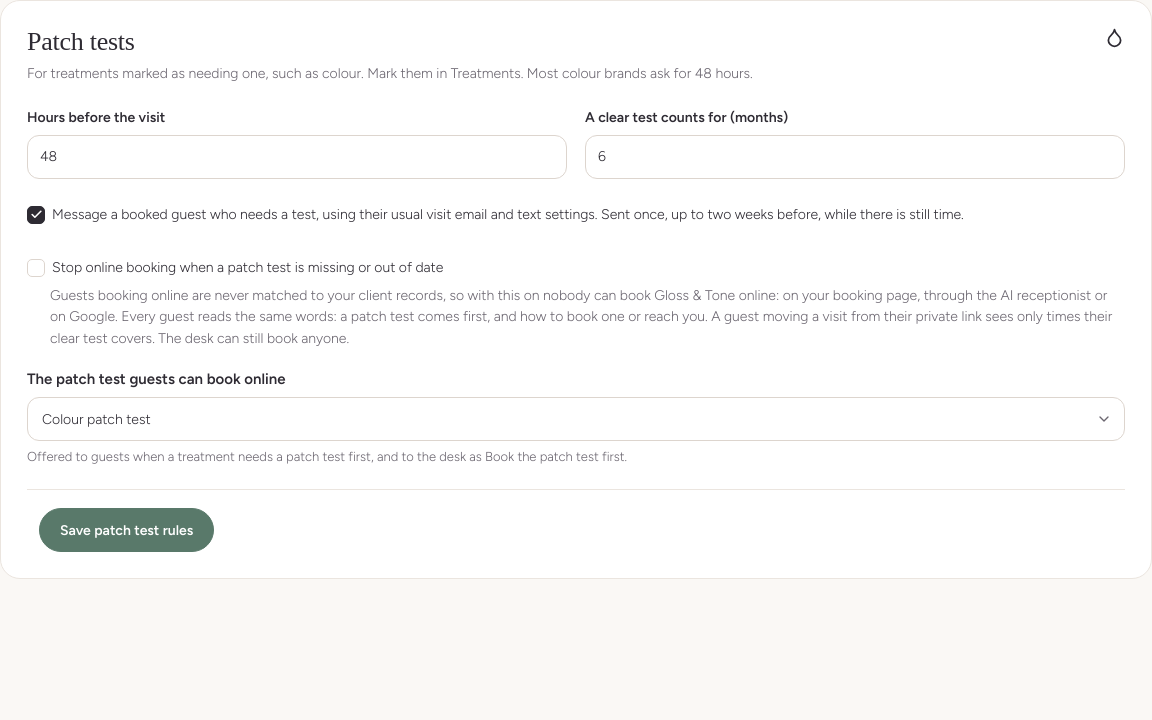
Test: is off by default and says what changes for guests
This screenshot has width=1152, height=720.
Check: the dropdown named "The patch test guests can book online" holds "service-patch-test", box [27,397,1125,441]
Click the 2nd checkbox named "Stop online booking when a patch test is missing or out of date": (36, 268) [27,259,45,277]
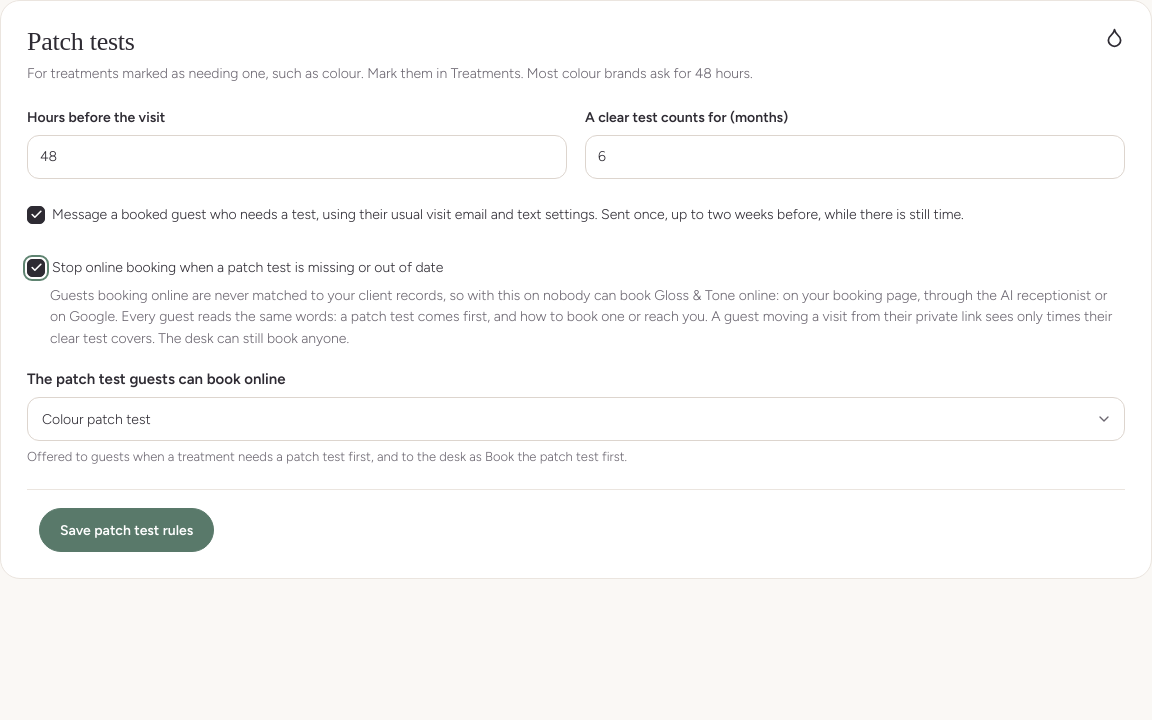
Click the button "Save patch test rules": (127, 530) [39,508,214,552]
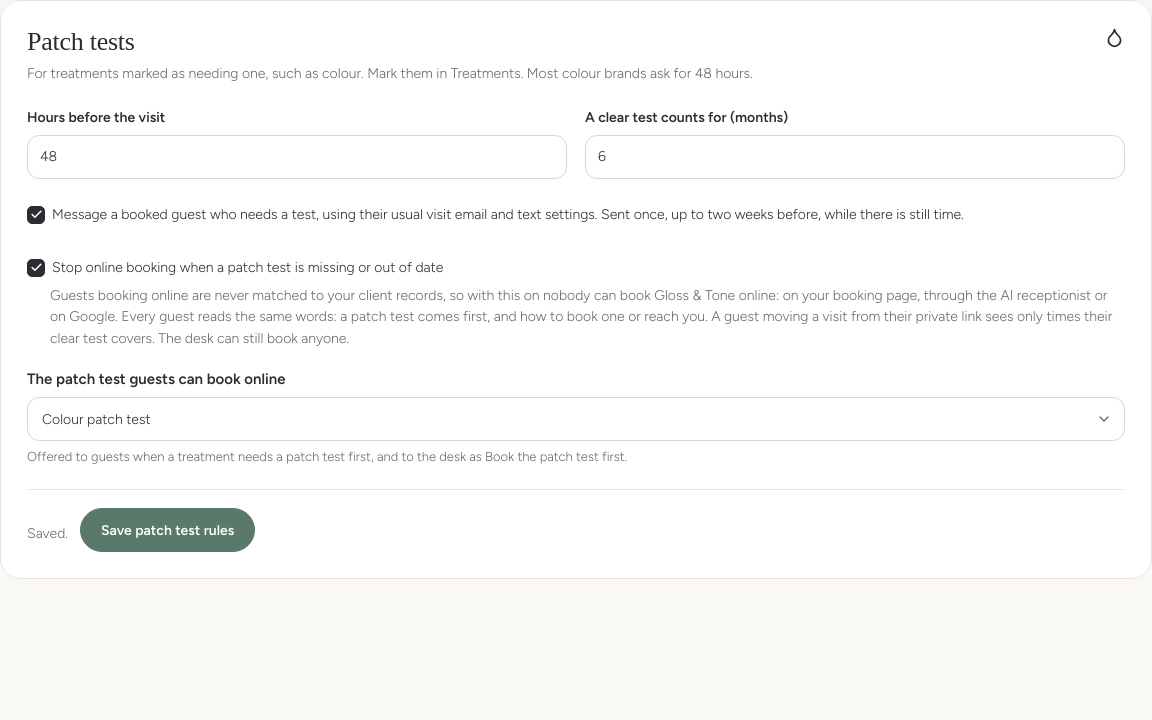
Check: the text "Saved." is shown, box [27,523,68,544]
